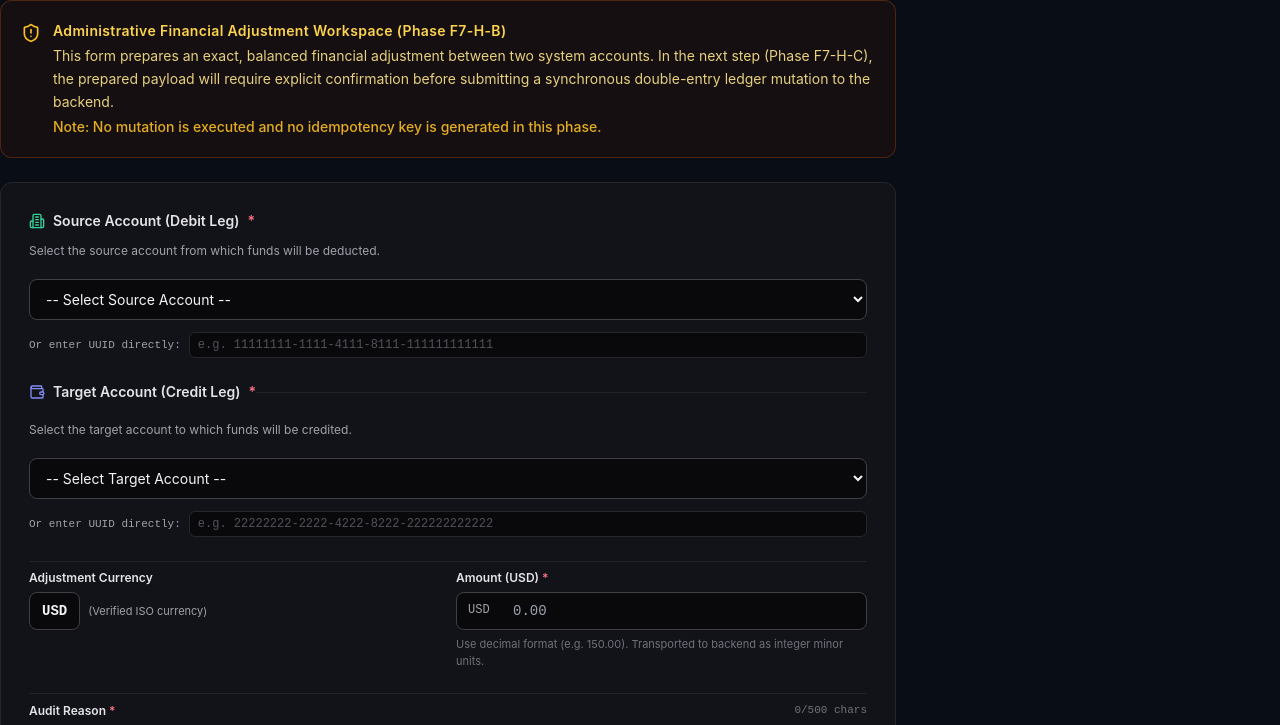
Scenario: Phase F7-H-B Admin Financial Adjustment Workspace & Form Component › Account Selection & Context Display › displays prominent warning when target account is CLOSED without blocking form
Select "ACCT-CLOSED-USD (CUSTOMER) — USD [CLOSED]" in the dropdown named "Target Account Selection" below "Target Account (Credit Leg)" at (448,479), box [29, 458, 867, 499]
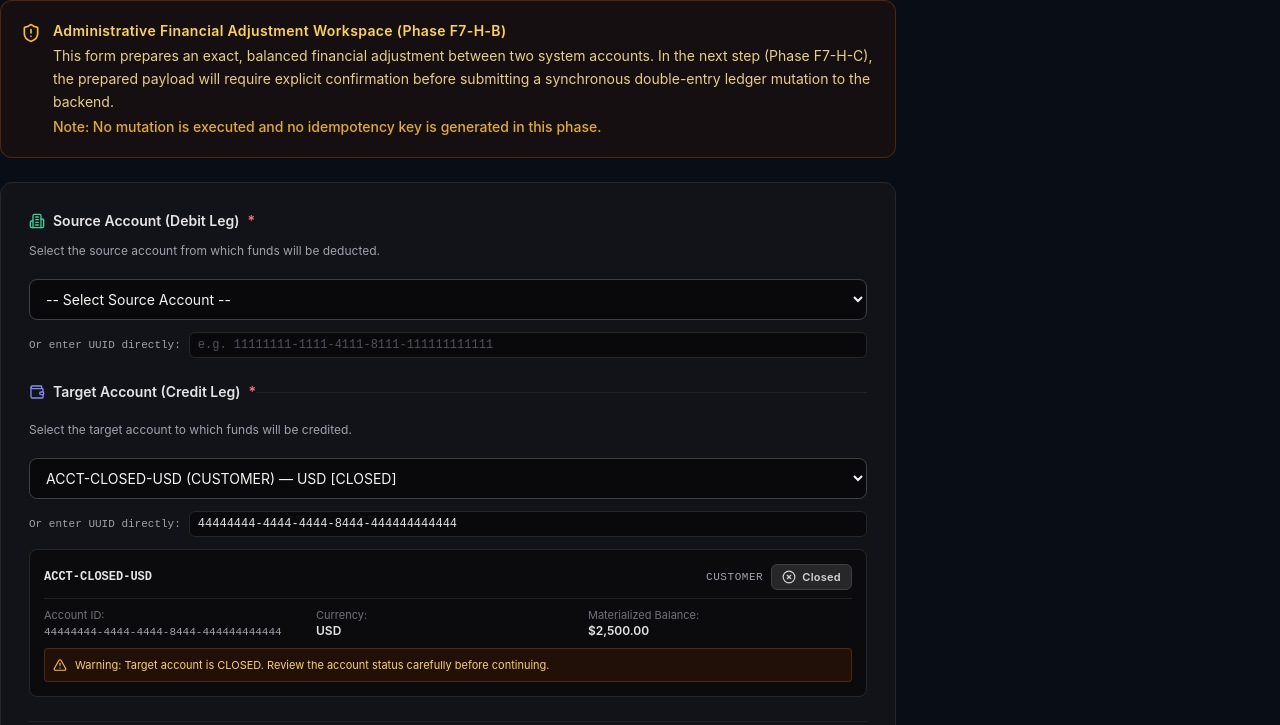
Expected: the message with test id "target-closed-warning" is shown, [44, 648, 852, 682]
Expected: the text "Warning: Target account is CLOSED. Review the account status carefully" is shown, [75, 658, 550, 672]
